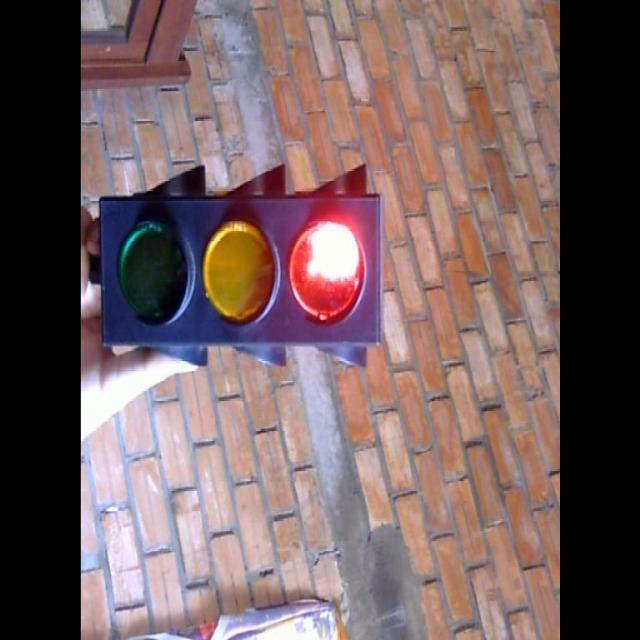red light: (283, 202, 377, 342)
